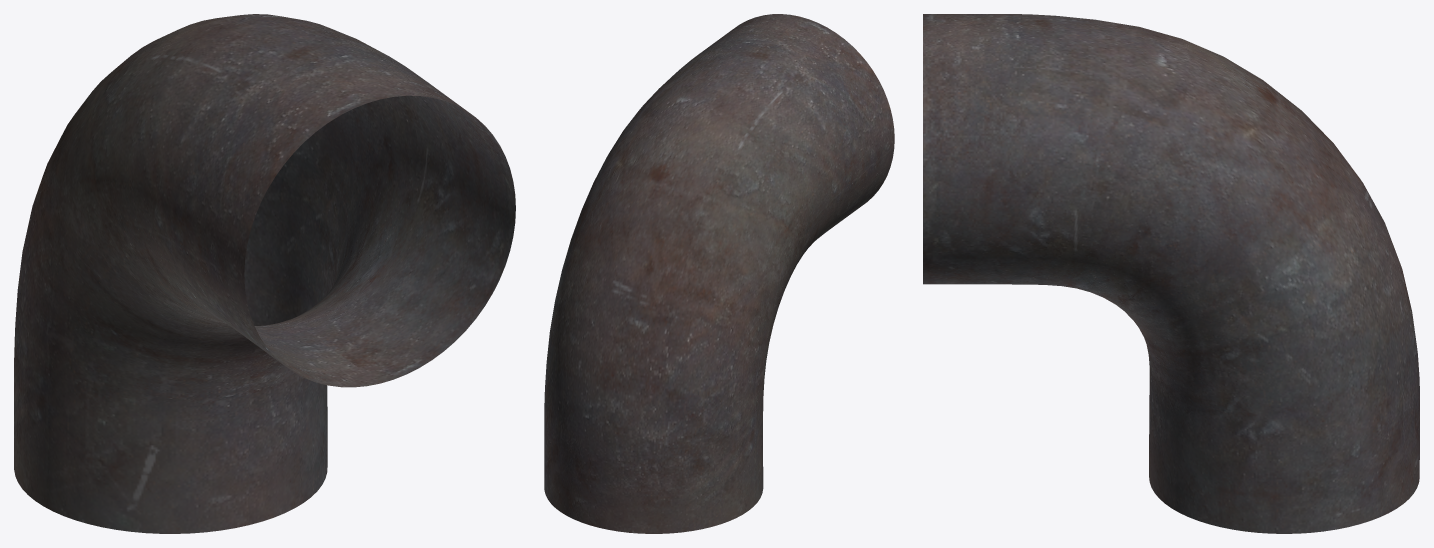
The model's file is SM_LargePipe_turning_01.fbx.
The picture shows the model from 3 angles, left to right: view 1: azimuth 30°, elevation 25°; view 2: azimuth 150°, elevation 25°; view 3: azimuth 270°, elevation 25°; orthographic projection. The views are drawn at different scales.
Parts seen in each view (by area): view 1: SM_LargePipe_turning_01_LOD0; view 2: SM_LargePipe_turning_01_LOD0; view 3: SM_LargePipe_turning_01_LOD0.
Part boxes in pixels (<box>): SM_LargePipe_turning_01_LOD0: <box>14,14,515,533</box>; SM_LargePipe_turning_01_LOD0: <box>544,14,894,533</box>; SM_LargePipe_turning_01_LOD0: <box>923,14,1419,533</box>.
Size of the model in its own units: 67.42 by 124 by 124.
